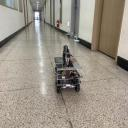cart: (55, 59, 83, 94)
